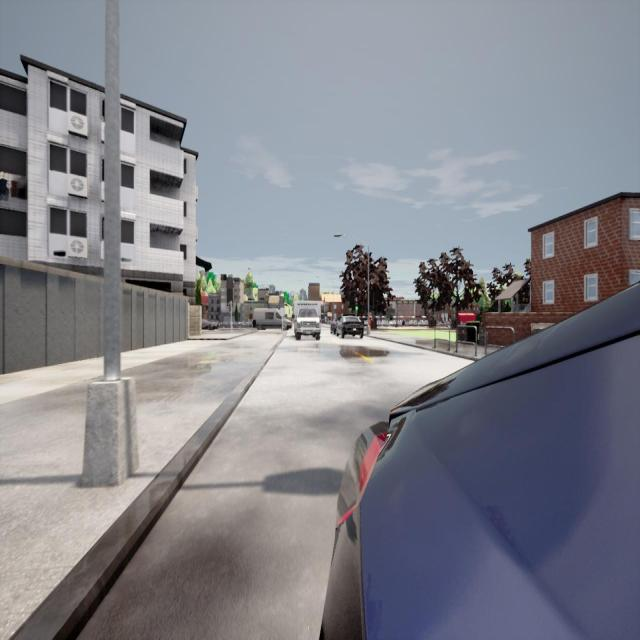Pedestrian: (369, 312, 372, 330)
Traffic_Signs: (278, 308, 286, 316)
Vehicle: (320, 282, 640, 640), (250, 305, 292, 334), (292, 301, 321, 340), (337, 316, 365, 342), (201, 316, 218, 331), (329, 314, 338, 334)
traffic_light: (355, 298, 358, 310), (229, 304, 231, 312)
